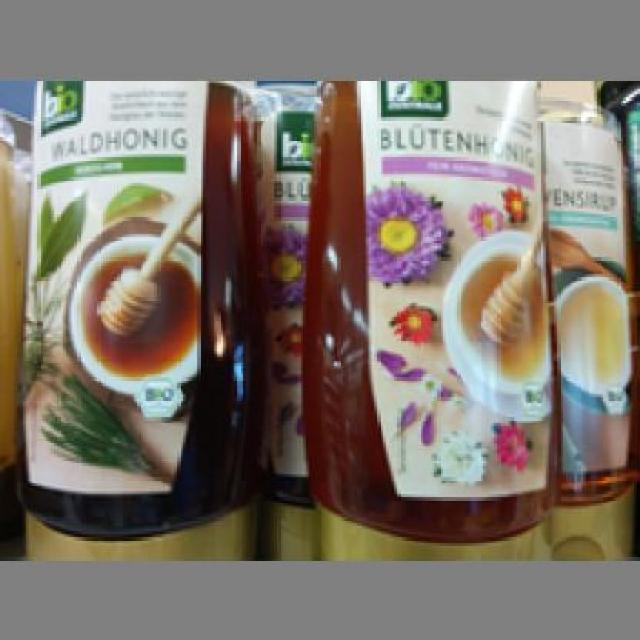Honey: (312, 77, 554, 557), (25, 74, 258, 560), (534, 97, 632, 557)
